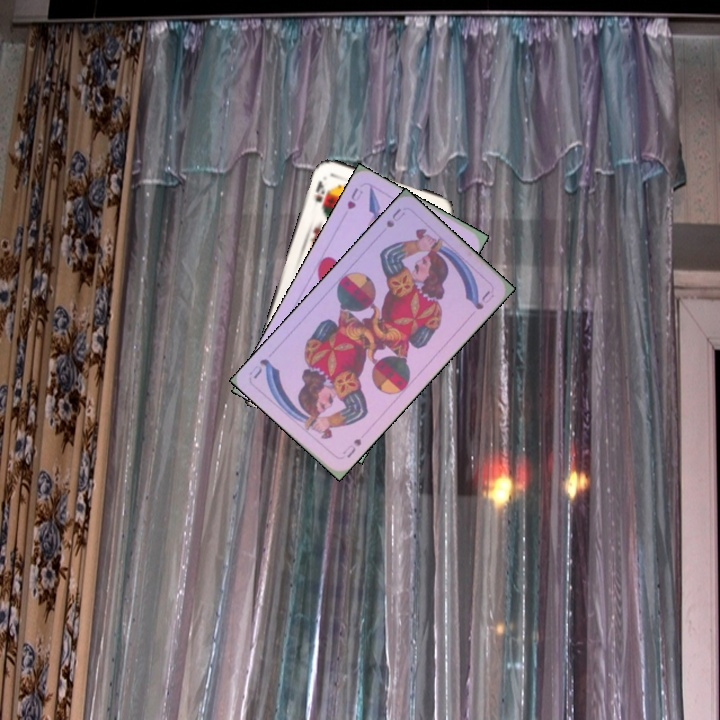HU: (343, 184, 365, 212)
SK: (311, 177, 331, 212)
SU: (338, 434, 364, 461), (382, 204, 408, 230)
